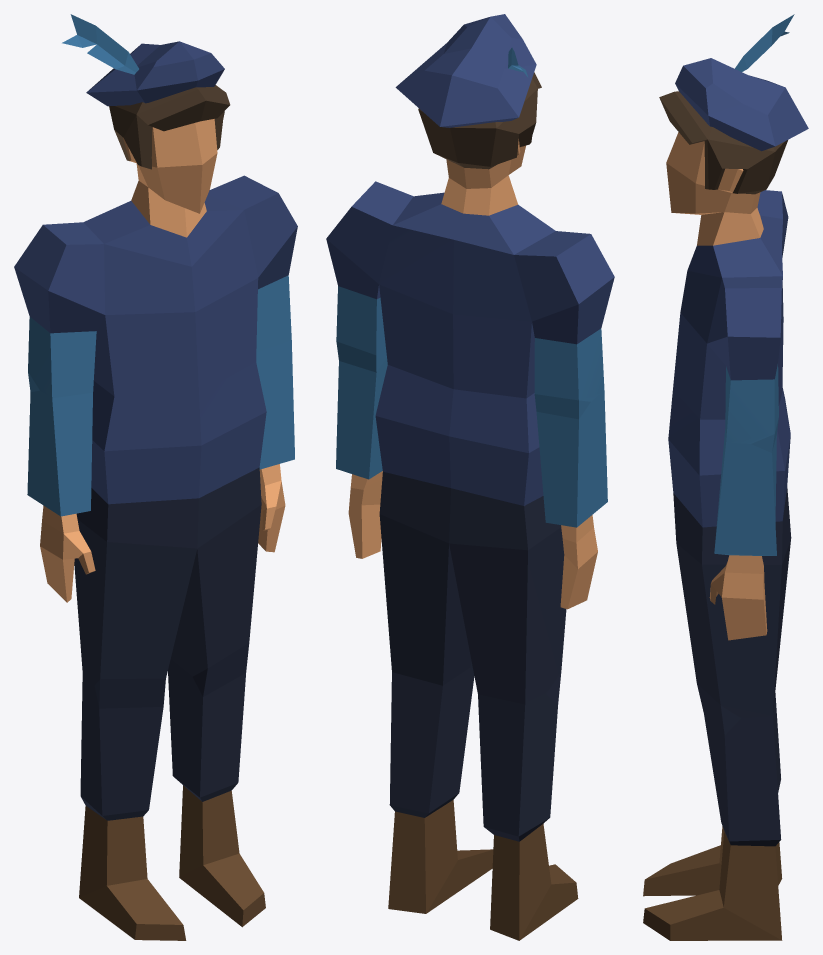
File: people_man-sir.fbx
3 views of the same model, side by side, from view 1: azimuth 30°, elevation 25°; view 2: azimuth 150°, elevation 25°; view 3: azimuth 270°, elevation 25° (orthographic). The views are drawn at different scales.
Visible parts, largest first — view 1: people_man_sir; view 2: people_man_sir; view 3: people_man_sir.
Part boxes in pixels (x1=…): people_man_sir: x1=14, y1=14, x2=297, y2=940; people_man_sir: x1=326, y1=14, x2=614, y2=940; people_man_sir: x1=643, y1=14, x2=808, y2=940.
Size of the model in its own units: 60.3 by 200 by 34.79.
